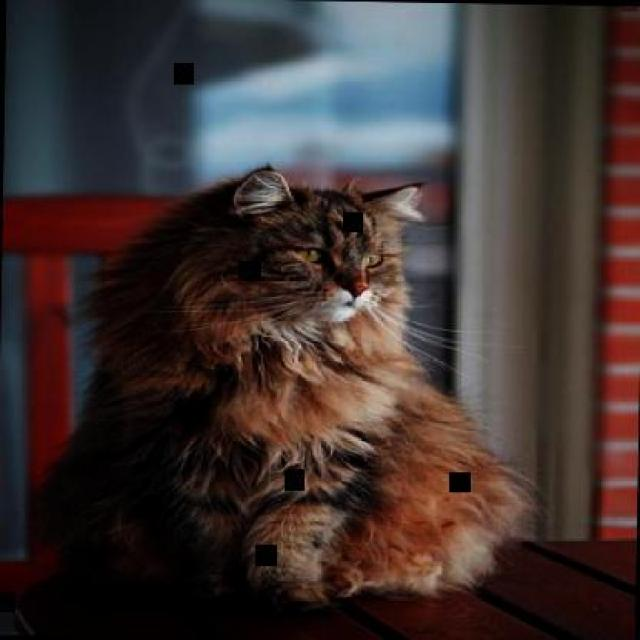cat: (48, 162, 514, 615)
